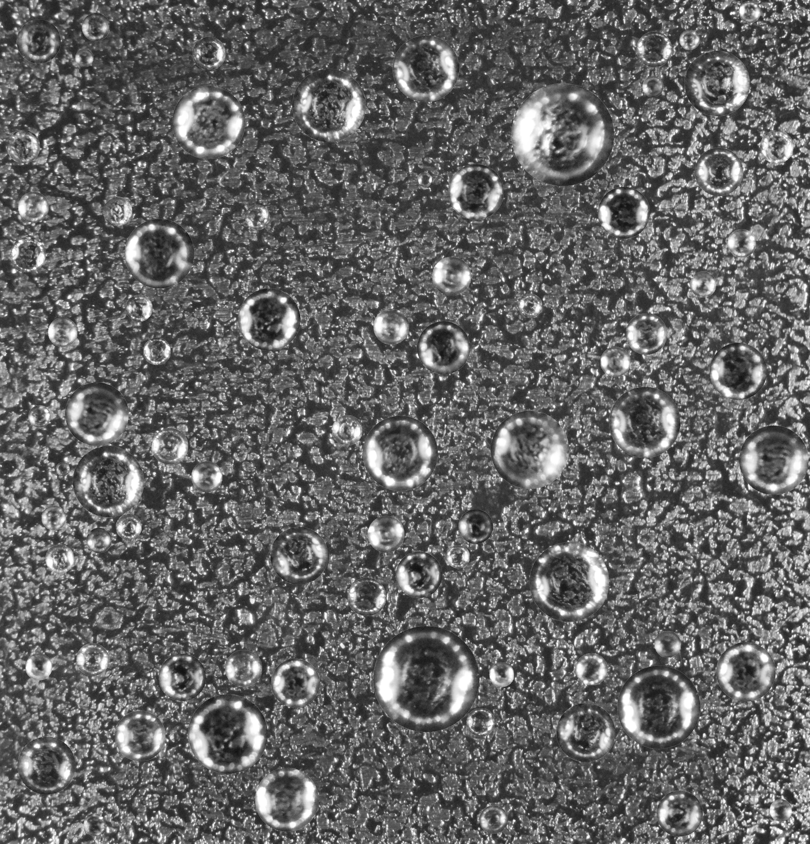Bubble: (373, 626, 479, 732), (511, 83, 614, 185), (617, 665, 700, 748), (529, 542, 609, 621), (188, 694, 267, 773), (490, 410, 568, 488), (362, 415, 437, 490), (292, 68, 365, 142), (172, 85, 245, 158), (609, 386, 680, 457), (72, 446, 143, 517), (124, 218, 194, 288), (739, 425, 808, 494), (392, 35, 459, 101), (684, 50, 749, 116), (255, 768, 318, 831), (65, 382, 128, 445), (238, 288, 300, 350), (556, 703, 615, 762), (716, 642, 775, 701), (17, 736, 75, 794), (709, 342, 766, 399), (270, 527, 327, 584), (448, 164, 503, 219), (417, 321, 470, 374), (598, 186, 649, 238), (114, 710, 165, 761), (694, 147, 743, 195), (271, 658, 319, 707), (158, 653, 205, 701), (395, 551, 442, 598), (656, 790, 702, 836), (16, 19, 60, 63), (625, 313, 667, 354), (347, 577, 386, 616), (432, 256, 471, 295), (225, 650, 262, 687), (367, 516, 404, 552), (151, 428, 188, 464), (636, 31, 672, 67), (373, 308, 409, 344), (10, 236, 45, 272), (458, 509, 493, 543), (760, 130, 793, 163), (6, 130, 39, 163), (192, 36, 225, 69), (76, 643, 108, 675), (575, 653, 607, 685), (191, 461, 222, 492), (18, 191, 48, 222), (600, 346, 630, 376), (332, 415, 362, 445), (45, 544, 74, 573), (103, 196, 132, 225), (48, 317, 77, 346), (727, 229, 756, 257), (479, 805, 507, 833), (466, 708, 494, 736), (81, 12, 109, 40), (125, 294, 152, 321), (25, 653, 52, 680), (143, 337, 170, 364), (654, 631, 681, 657), (690, 271, 716, 297), (115, 514, 141, 539), (86, 527, 111, 553), (41, 505, 66, 530), (489, 662, 514, 687), (244, 204, 269, 229), (518, 293, 542, 317), (446, 545, 469, 568), (83, 813, 105, 835), (769, 799, 791, 821), (28, 405, 50, 427), (739, 0, 760, 22), (642, 76, 663, 97), (679, 29, 699, 49), (75, 48, 93, 66), (417, 172, 431, 187), (55, 462, 69, 476)
